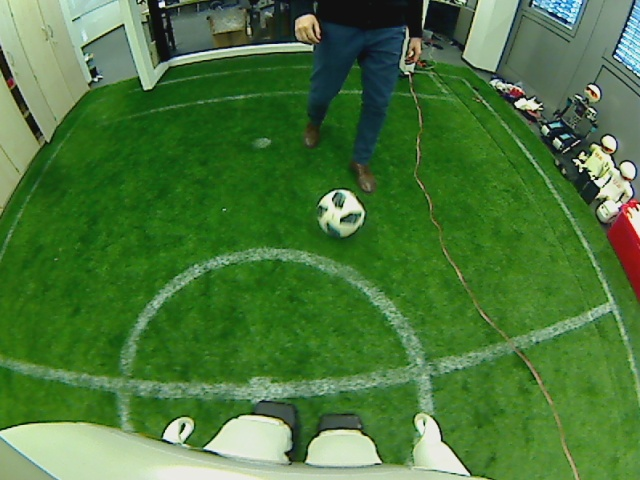ball: (315, 187, 366, 239)
